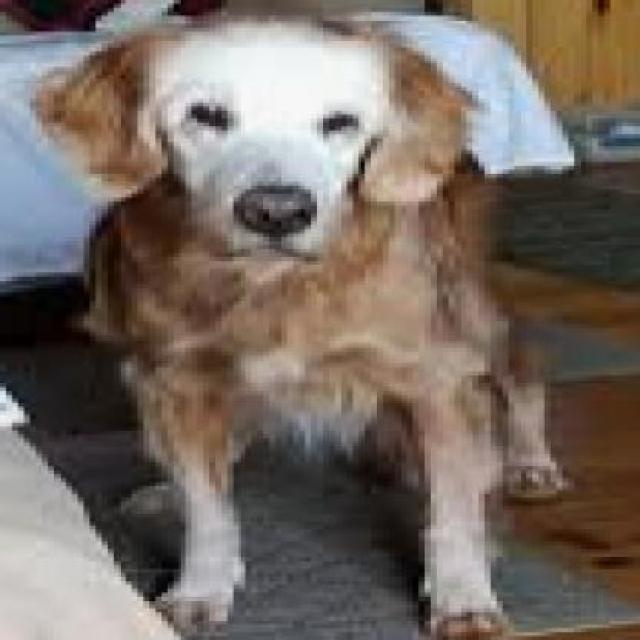Dog: (23, 0, 575, 637)
